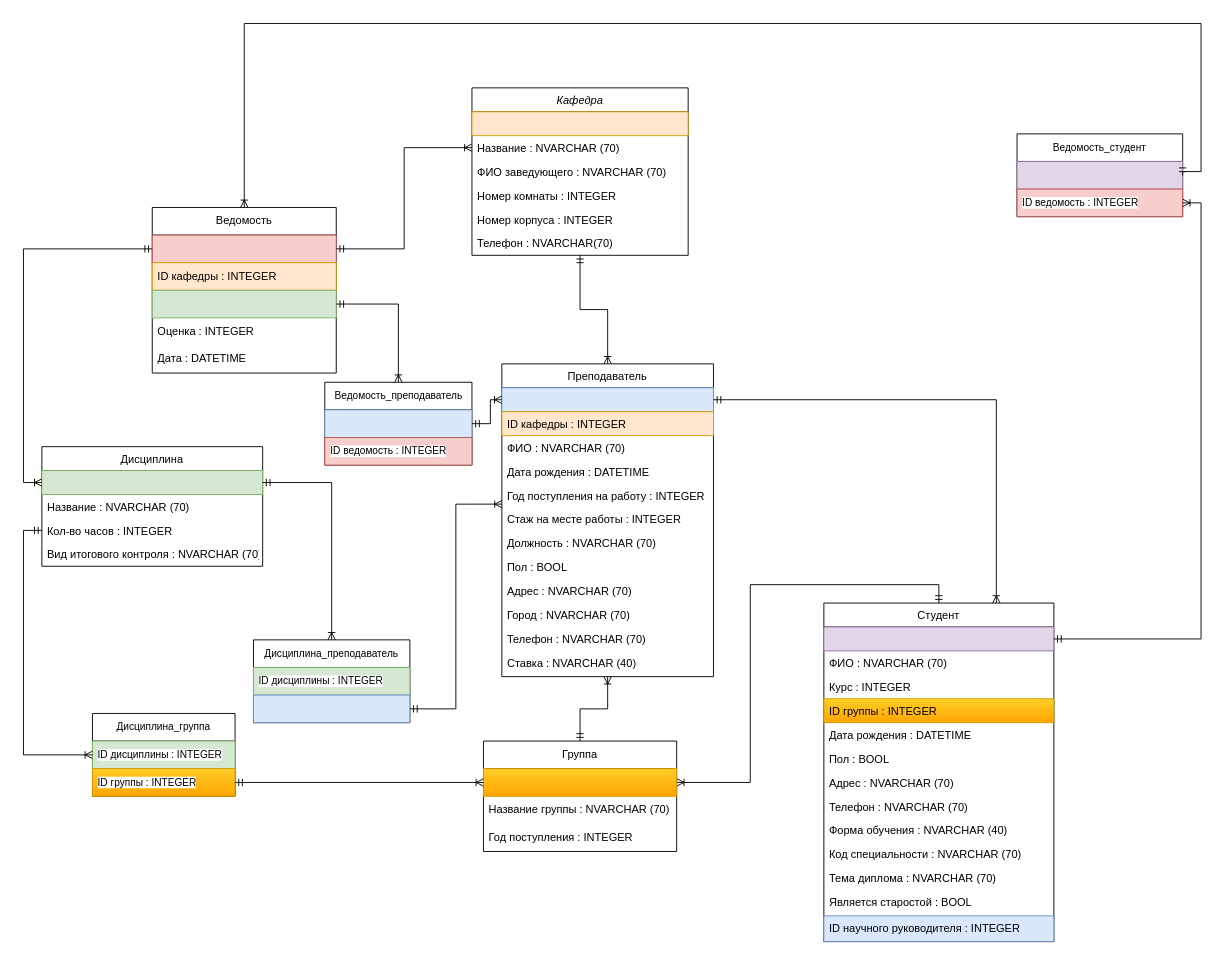
The diagram is 1225 pixels wide and 960 high, and some of its shapes have lost their labels. The shapes that lost their labels are listed below. From the top down, each one's centre as x and y in pixels, then its label:
point (579, 123): ID кафедры : INTEGER (KEY)
point (1099, 175): Номер студенческого : INTEGER
point (243, 248): ID ведомости : INTEGER (KEY)
point (243, 303): ID дисципллины : INTEGER
point (607, 399): ID преподавателя : INTEGER (KEY)
point (398, 423): ID преподателя : INTEGER
point (152, 482): ID дисциплины : INTEGER (KEY)
point (938, 638): Номер студенческого : INTEGER (KEY)
point (331, 708): ID преподавателя : INTEGER
point (580, 782): ID группы : INTEGER (KEY)
